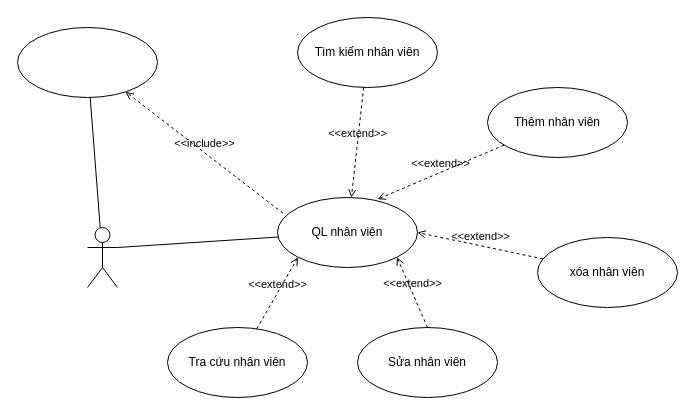
The diagram is 695 pixels wide and 415 high, and some of its shapes have lost their labels. The box of each missing label's shape, as (x1, y1, x2, y2) in pixels:
Actor: (86, 226, 118, 288)
Đăng nhập: (16, 26, 158, 98)
